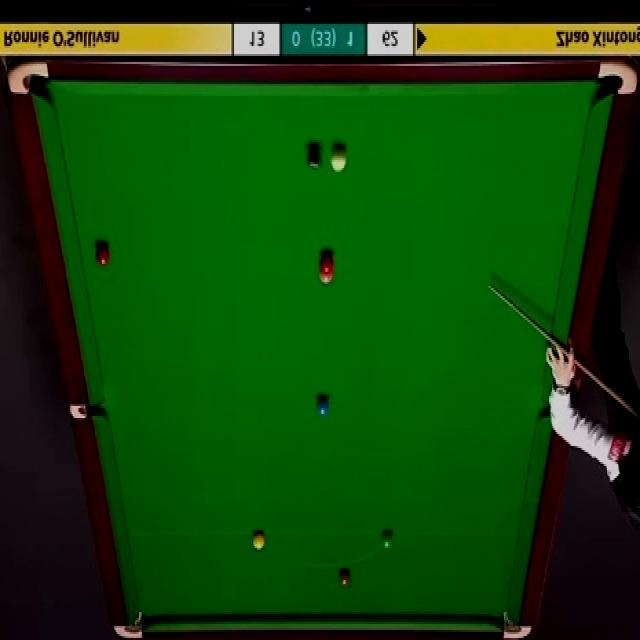black-ball: (306, 145, 323, 170)
blue-ball: (316, 397, 330, 418)
brown-ball: (338, 570, 351, 587)
green-ball: (380, 530, 393, 551)
pink-ball: (318, 268, 335, 286)
red-ball: (96, 245, 110, 266), (318, 253, 334, 270)
white-ball: (331, 146, 347, 172)
yellow-ball: (253, 530, 265, 550)
